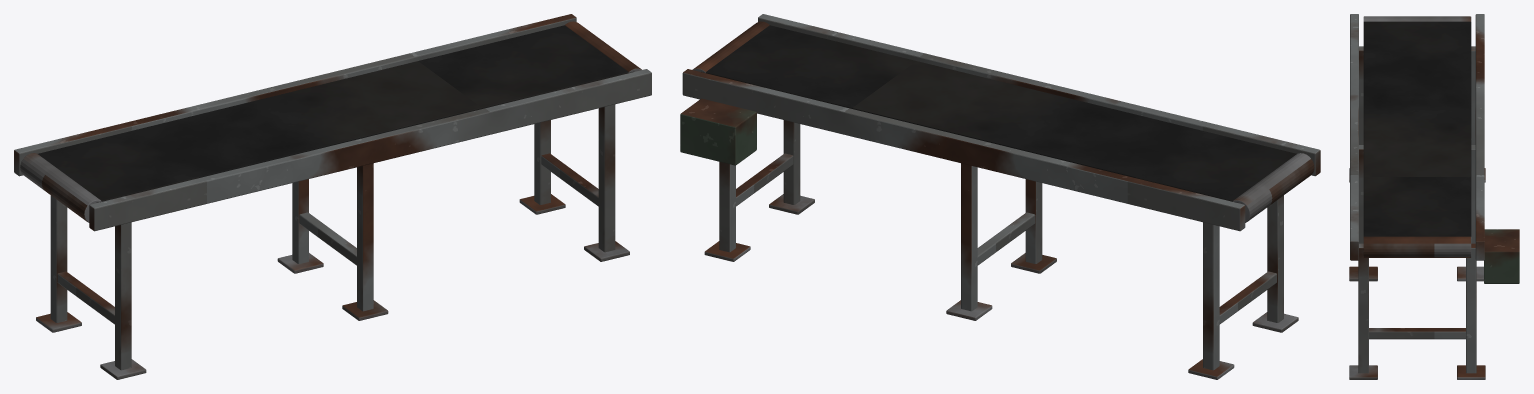
File: F01_conveyor_belt_straight.glb
3 renders of one model, left to right at view 1: azimuth 30°, elevation 25°; view 2: azimuth 150°, elevation 25°; view 3: azimuth 270°, elevation 25°, orthographic. The views are drawn at different scales.
Visible parts, largest first — view 1: F01_conveyor_belt_straight; view 2: F01_conveyor_belt_straight; view 3: F01_conveyor_belt_straight.
Boxes of the visible parts, bbox=[...] form: F01_conveyor_belt_straight: bbox=[14, 14, 651, 379]; F01_conveyor_belt_straight: bbox=[680, 14, 1320, 379]; F01_conveyor_belt_straight: bbox=[1349, 14, 1519, 379].
Bounding box in the file's own units: 3 × 0.904 × 0.9437.
4 materials, 4 textured.
